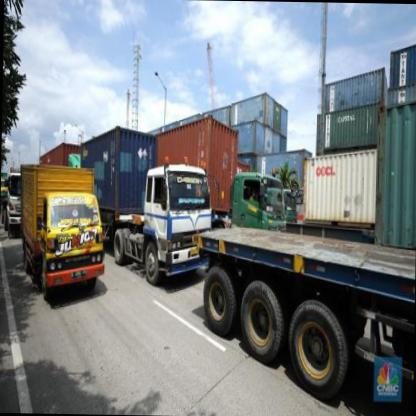truck: (144, 165, 213, 290), (41, 188, 106, 306)
